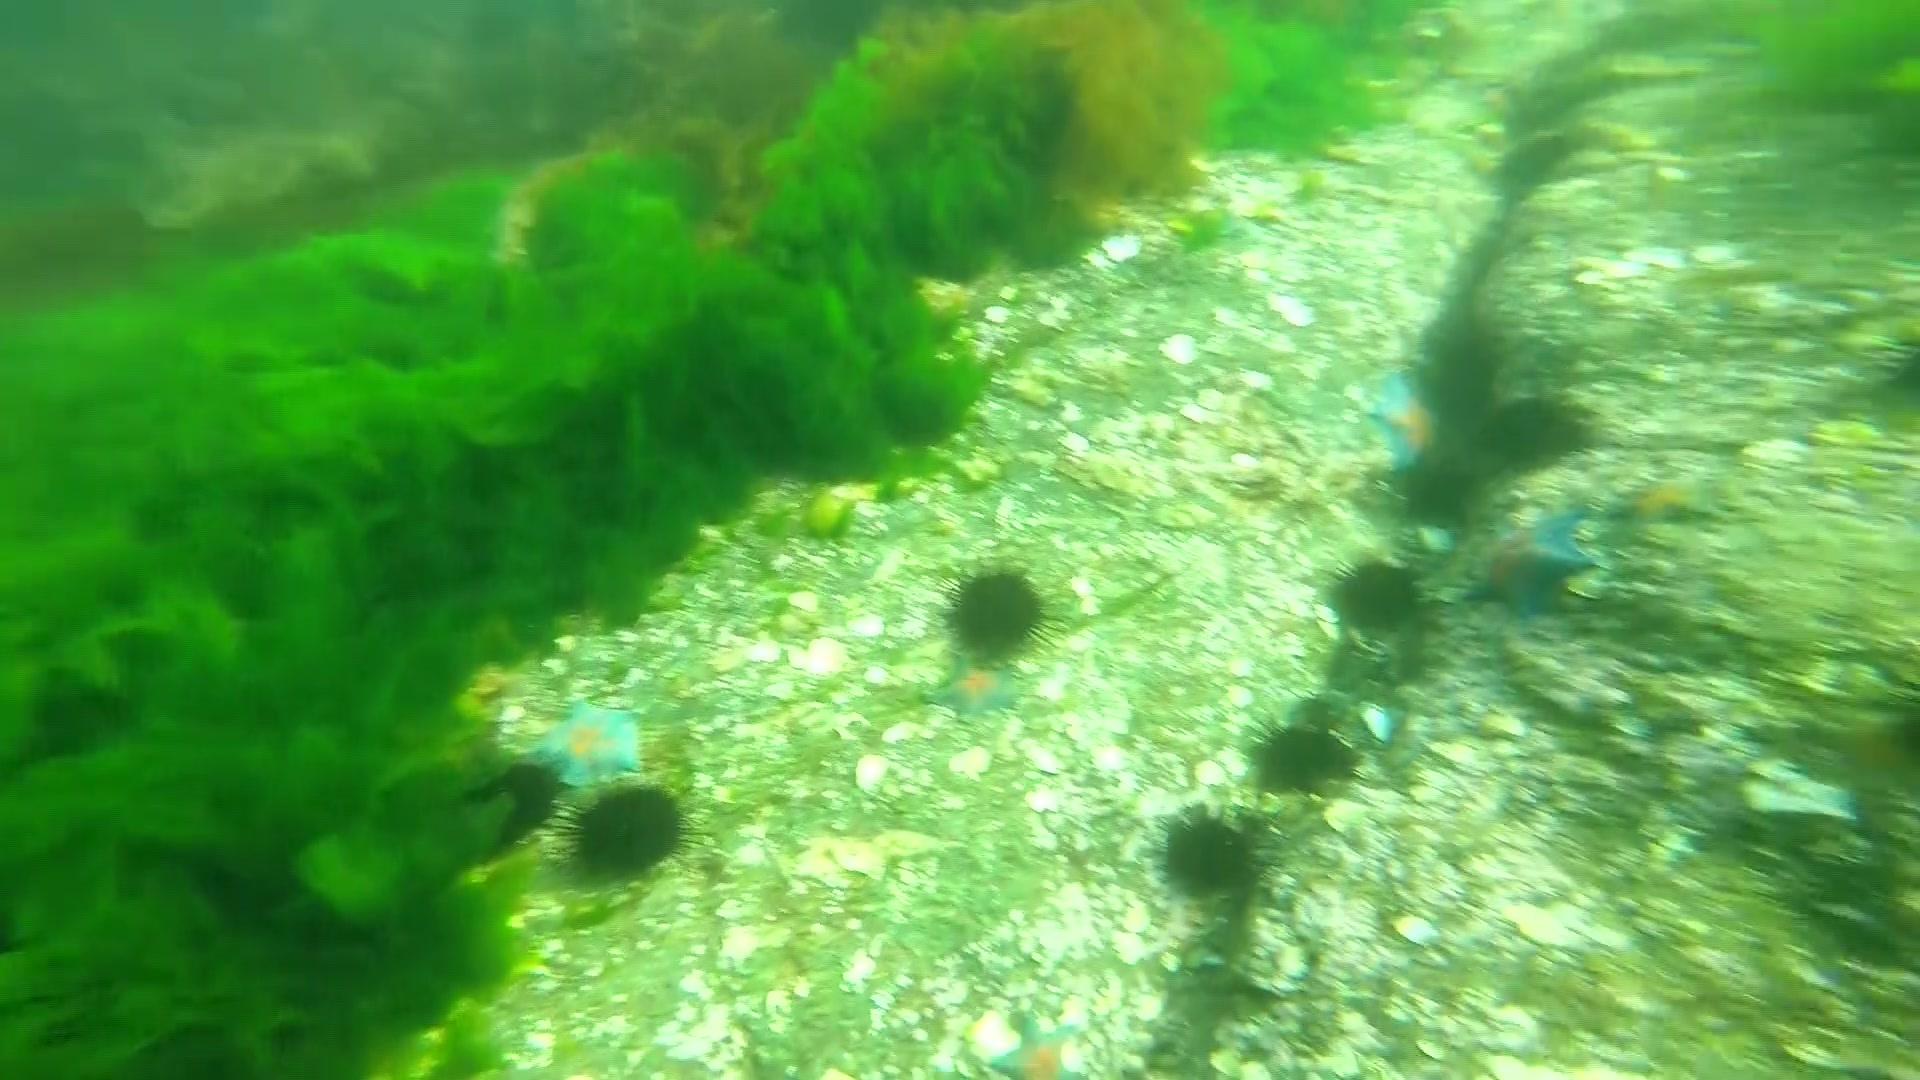echinus: (555, 767, 705, 891), (932, 550, 1059, 676), (1145, 796, 1259, 895), (1480, 389, 1601, 480), (1323, 547, 1436, 644), (1241, 704, 1358, 791), (469, 757, 574, 848), (1876, 320, 1920, 417)
starfish: (1462, 510, 1596, 621), (513, 688, 649, 787), (918, 647, 1027, 728), (978, 1001, 1088, 1080), (1364, 373, 1441, 473), (1629, 465, 1713, 530)
